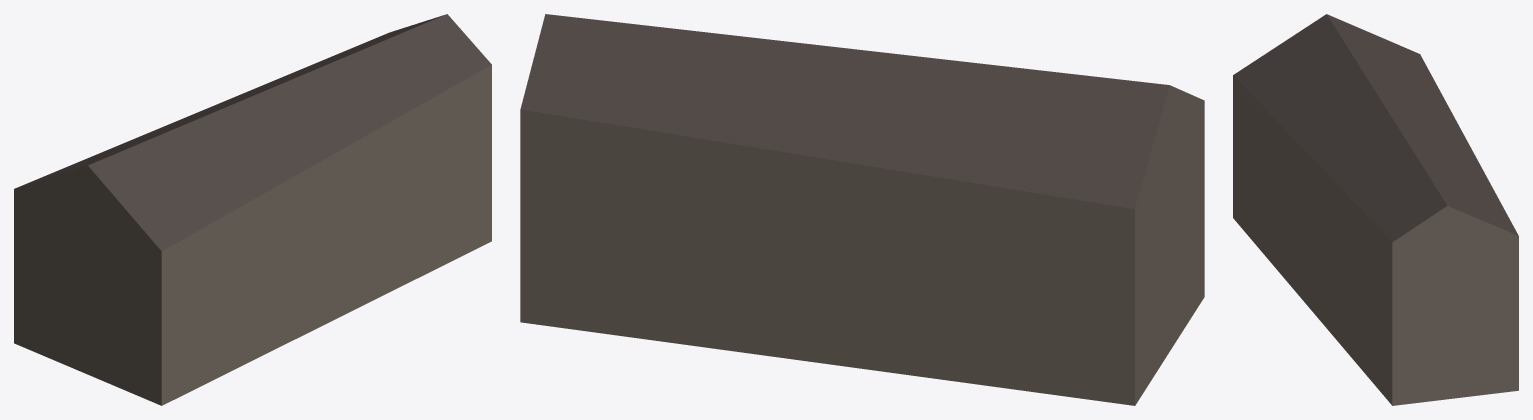
The picture shows the model from 3 angles, left to right: view 1: azimuth 30°, elevation 25°; view 2: azimuth 150°, elevation 25°; view 3: azimuth 270°, elevation 25°; orthographic projection. The views are drawn at different scales.
Visible parts, largest first — view 1: HP-w1198882711; view 2: HP-w1198882711; view 3: HP-w1198882711.
Boxes of the visible parts, left/top/right/bottom form: HP-w1198882711: left=14, top=14, right=491, bottom=405; HP-w1198882711: left=520, top=14, right=1204, bottom=405; HP-w1198882711: left=1233, top=14, right=1518, bottom=405.
Bounding box in the file's own units: 18.82 × 8.13 × 10.88.
